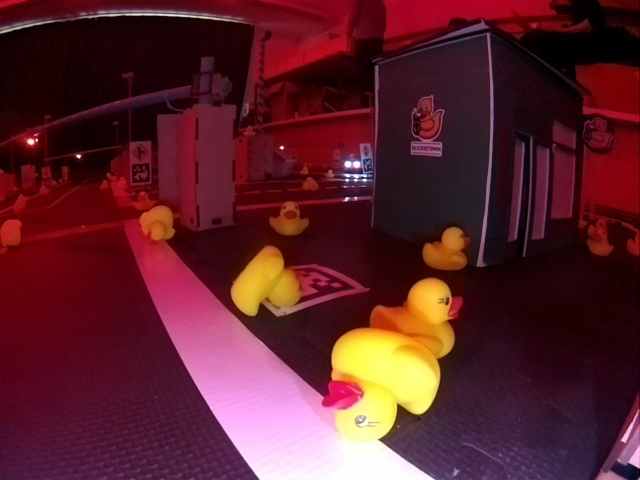Duckie: (326, 328, 436, 437), (373, 278, 462, 351), (232, 245, 300, 316), (423, 228, 471, 270), (271, 201, 306, 235), (141, 206, 174, 241), (588, 231, 612, 255), (133, 192, 154, 210), (303, 177, 319, 190), (325, 169, 334, 178), (100, 180, 108, 188)
Duckiebot: (343, 159, 362, 171)
Intersection sign: (130, 142, 149, 160)
QR code: (269, 264, 365, 316), (132, 164, 150, 183), (363, 159, 372, 173)
Signal sign: (361, 144, 370, 155)
